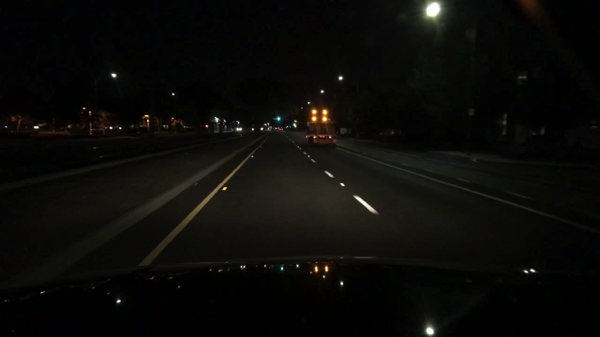car: (306, 121, 336, 147), (236, 125, 242, 131), (278, 126, 283, 131), (273, 125, 278, 130)
traffic light: (277, 115, 280, 120), (292, 123, 297, 126), (272, 117, 277, 119)
